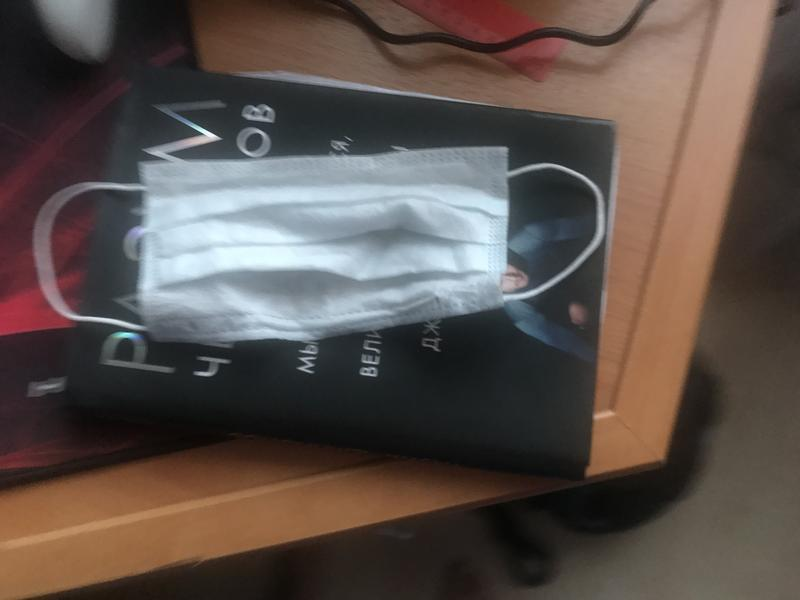medical_mask: (32, 149, 604, 340)
